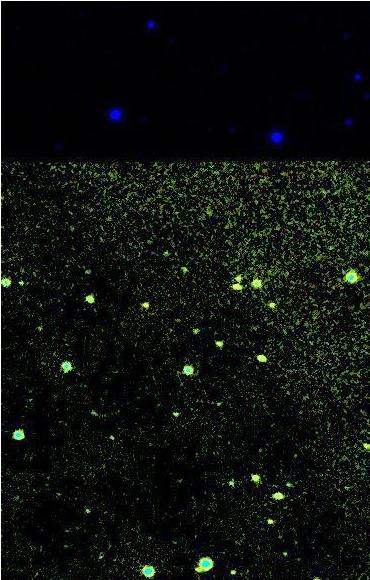star: (257, 505, 287, 535)
